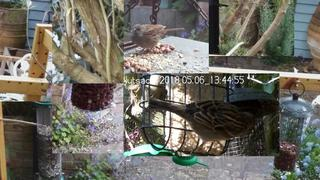dunnock: (131, 24, 185, 55)
sparrow: (148, 97, 255, 147)
